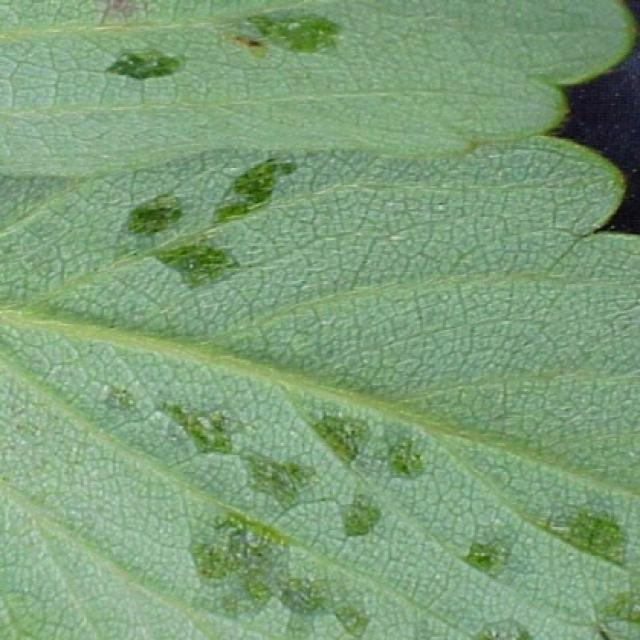Angular Leafspot: (77, 0, 638, 638)
